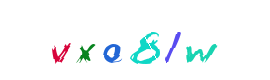8: (95, 0, 175, 80)
L: (103, 0, 183, 80)
O: (94, 0, 174, 80)
V: (20, 0, 100, 80)
W: (126, 0, 206, 80)
X: (46, 0, 126, 80)
